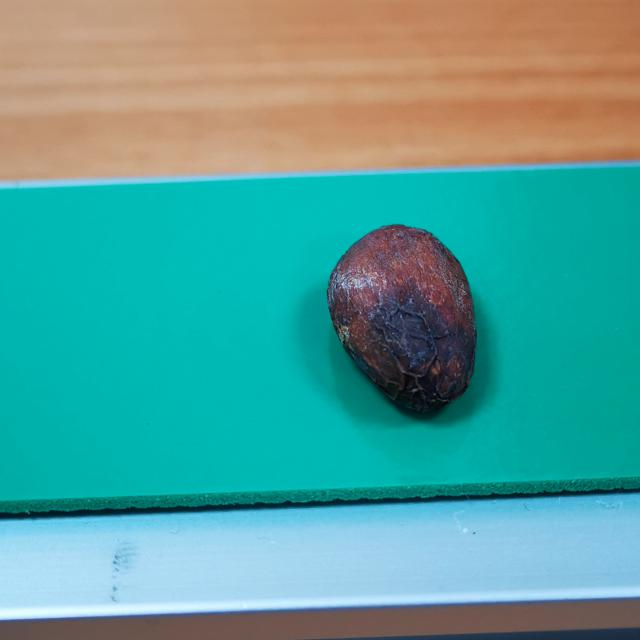Fine_cocoabeans: (248, 196, 563, 464)
